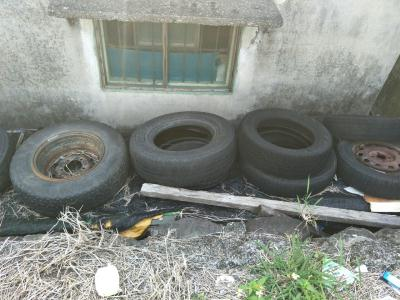tire: (6, 114, 132, 218), (126, 108, 241, 190), (235, 106, 336, 180), (335, 133, 400, 198), (323, 114, 400, 144)
